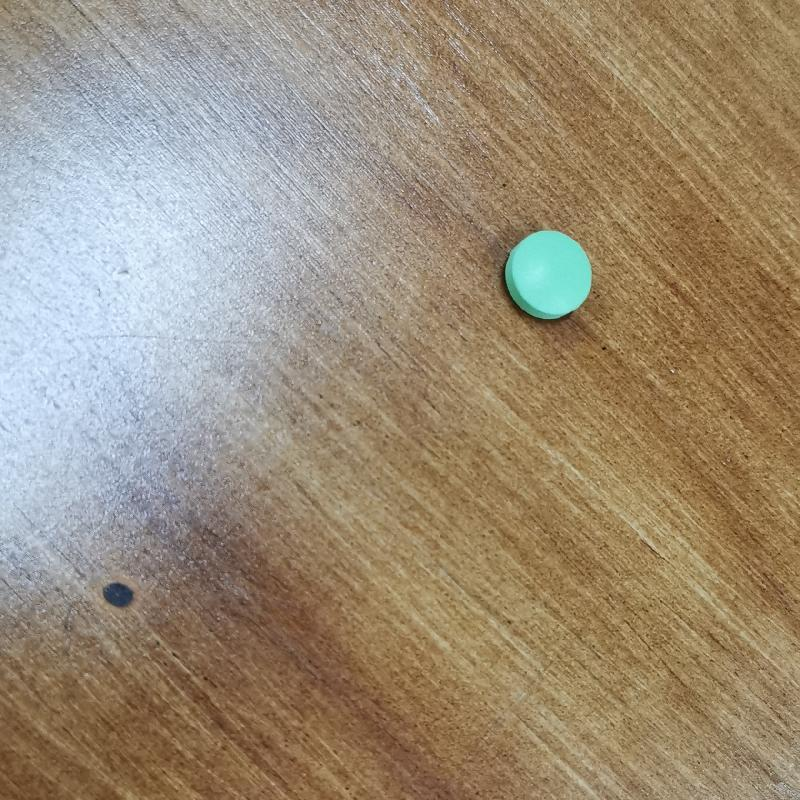pills: (496, 216, 603, 336)
